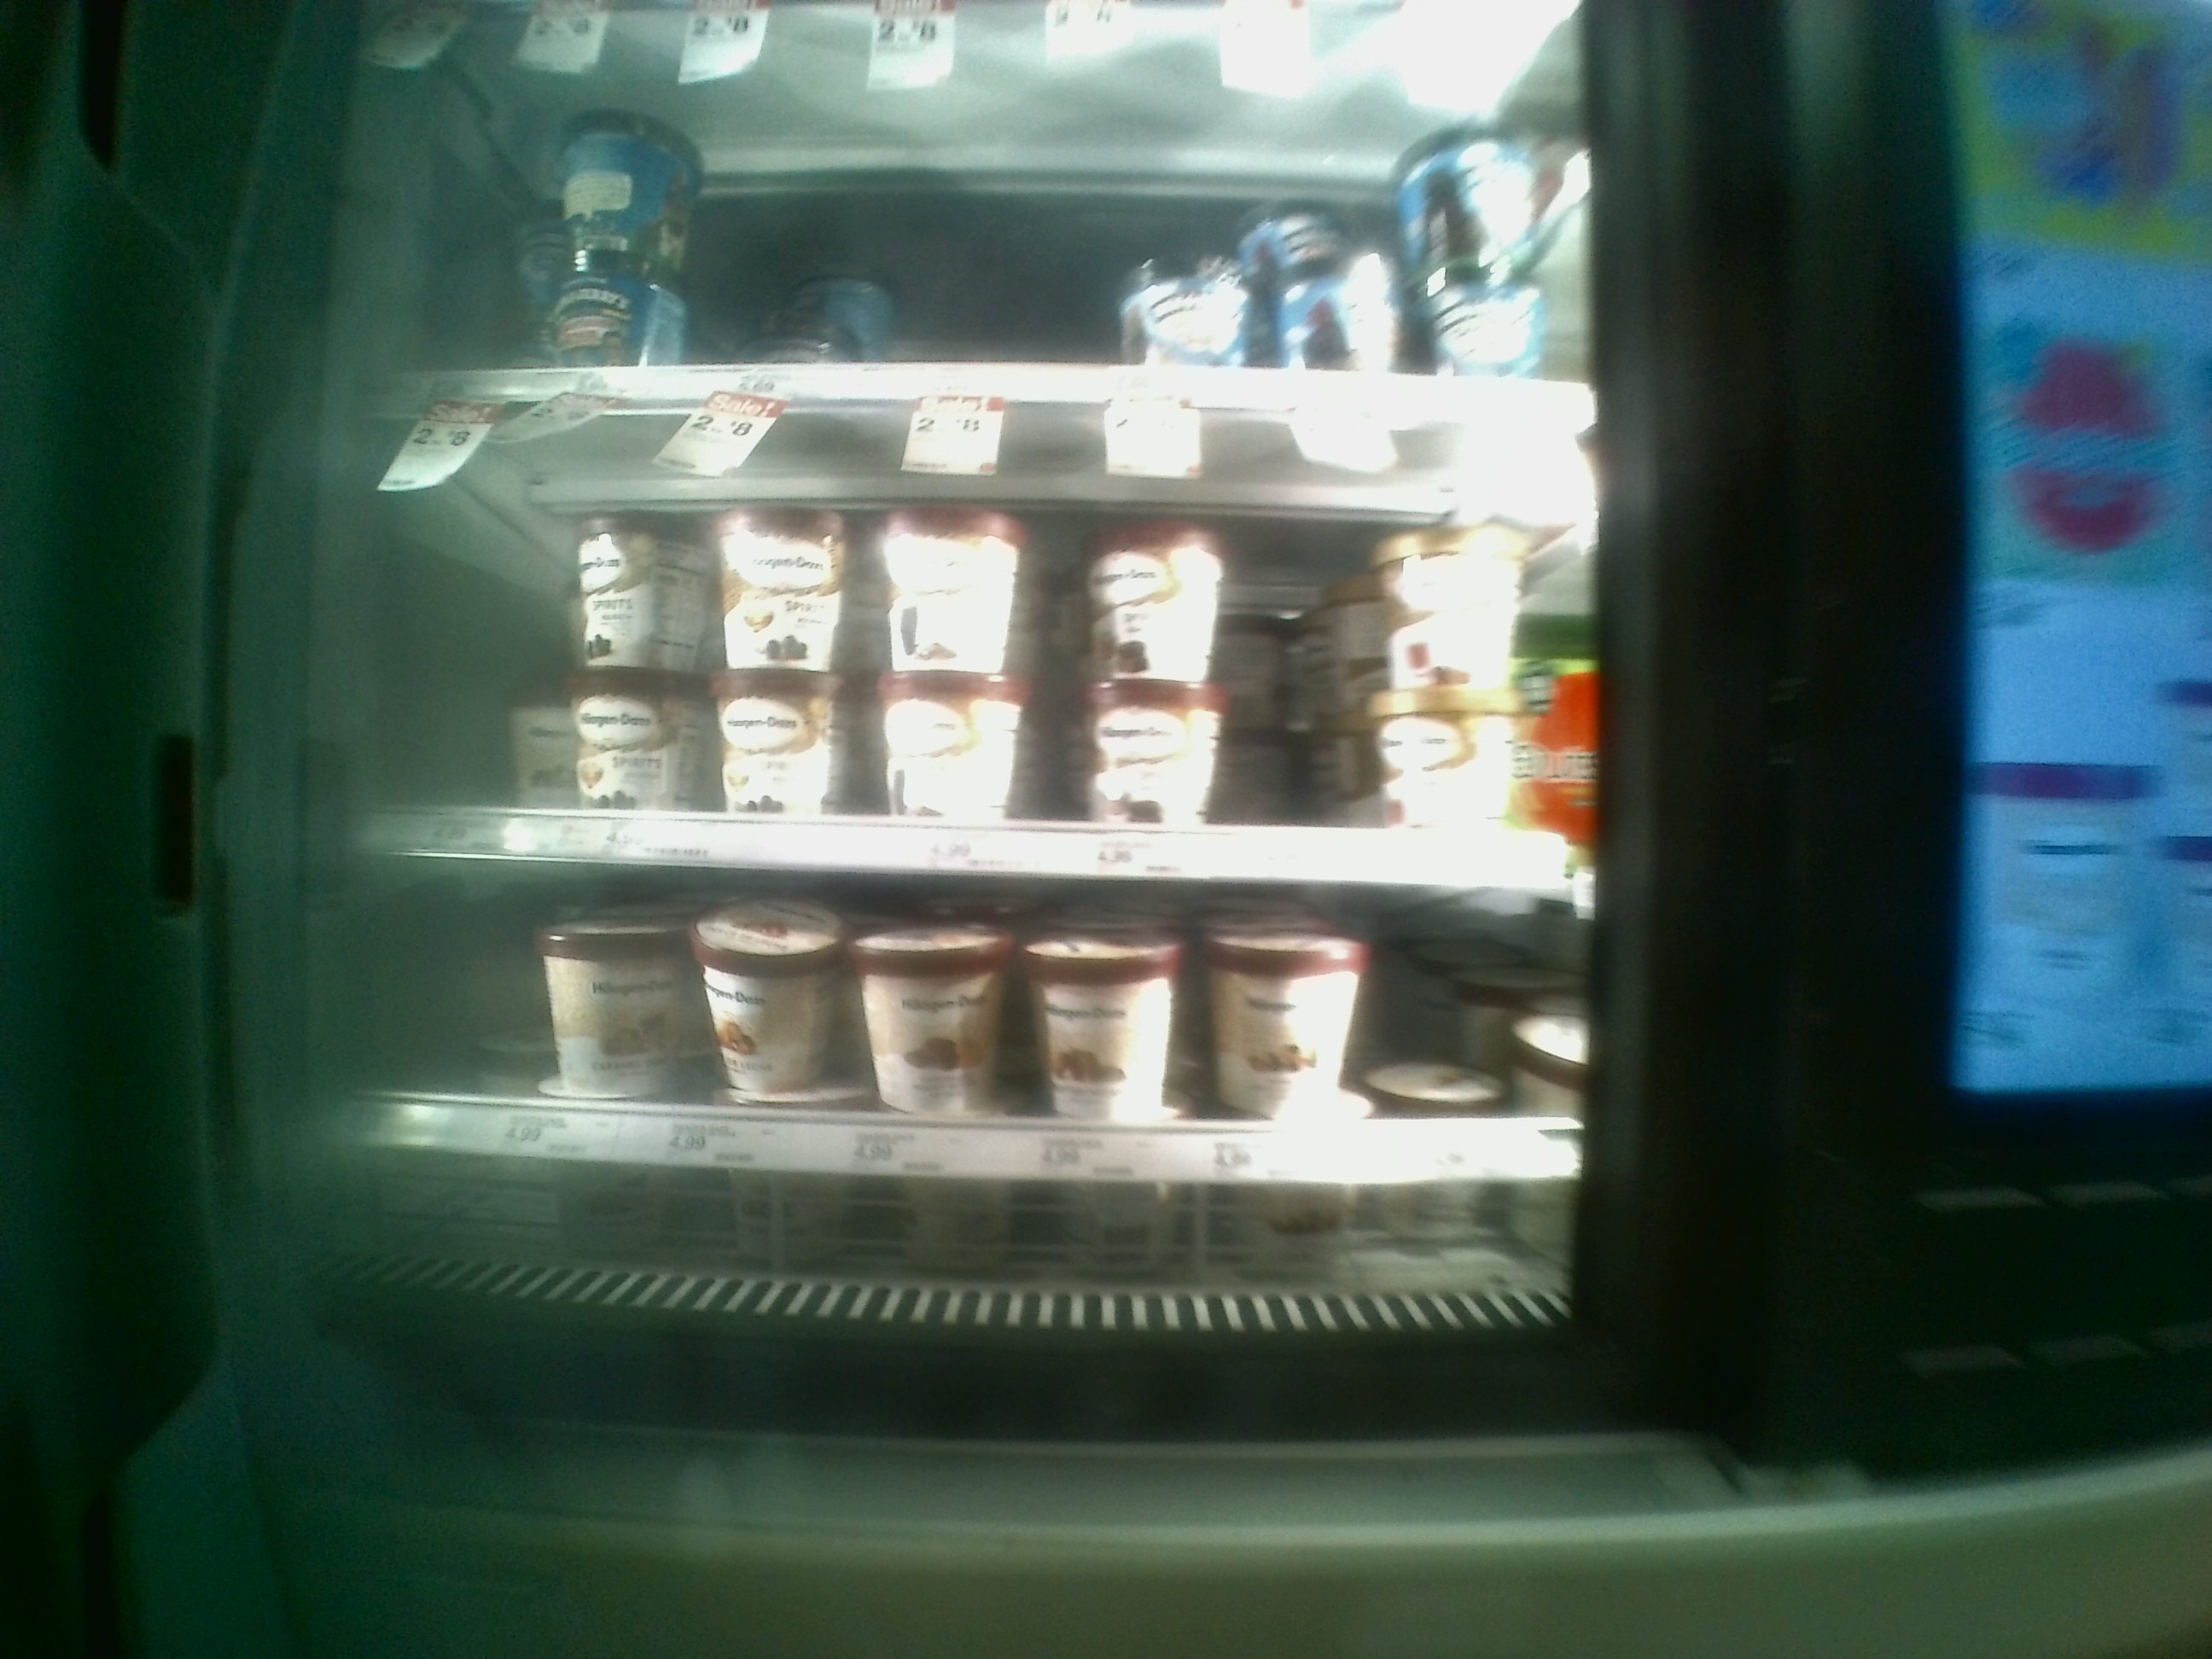shelf: (374, 404, 1601, 889), (371, 868, 1575, 1248)
